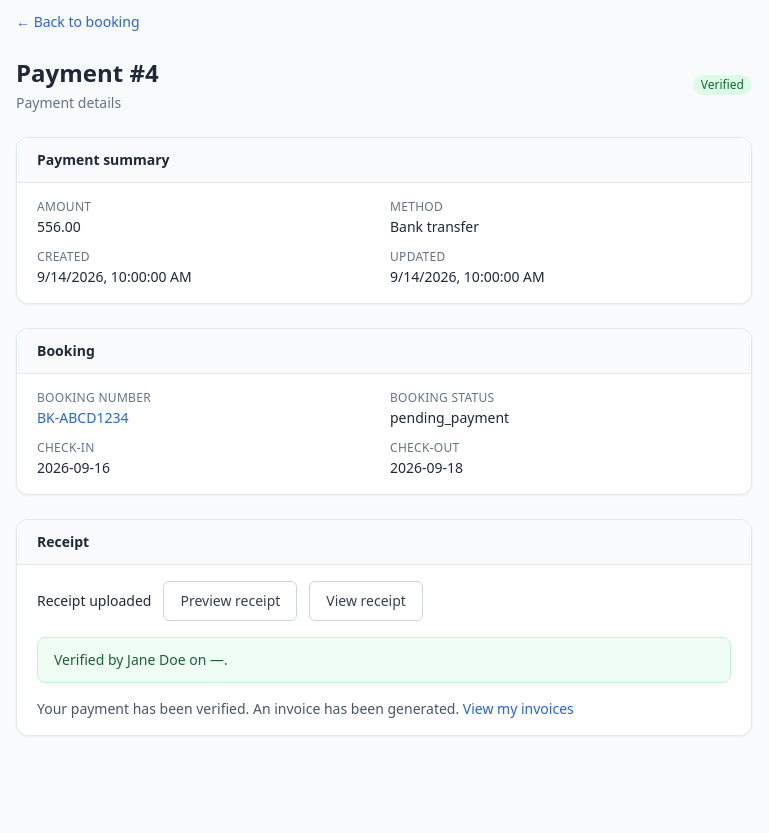
PaymentDetail page › shows the non-previewable note for a PDF receipt
This screenshot has width=769, height=833.
What coordinates should you click on to do the following:
click the button "Preview receipt"
I would click on:
 (230, 601)
Its box is [164,581,297,621].
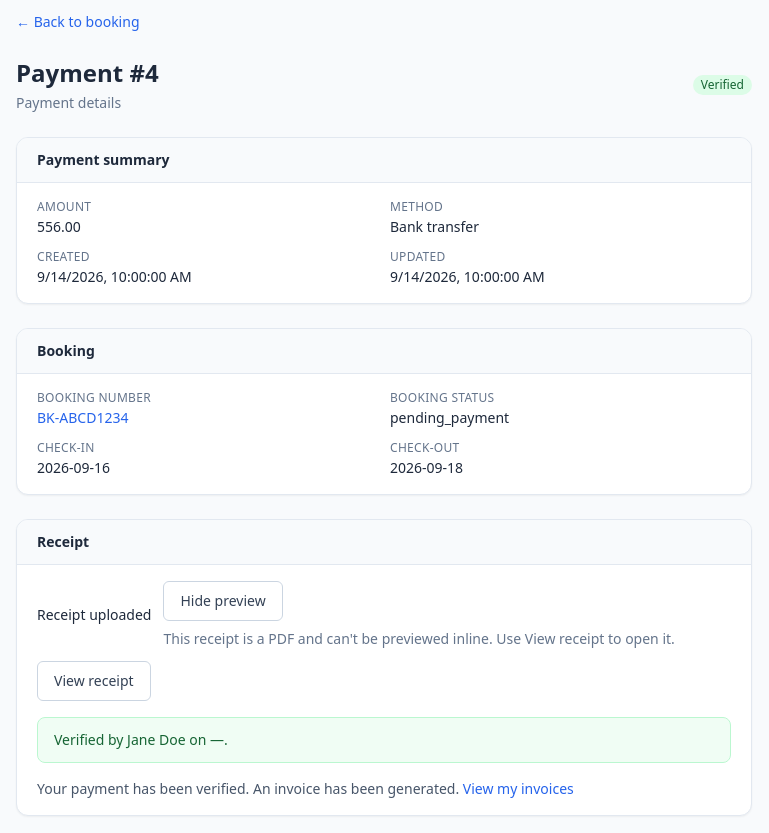
Now the text "can't be previewed inline" is shown, box [164,629,675,648]
